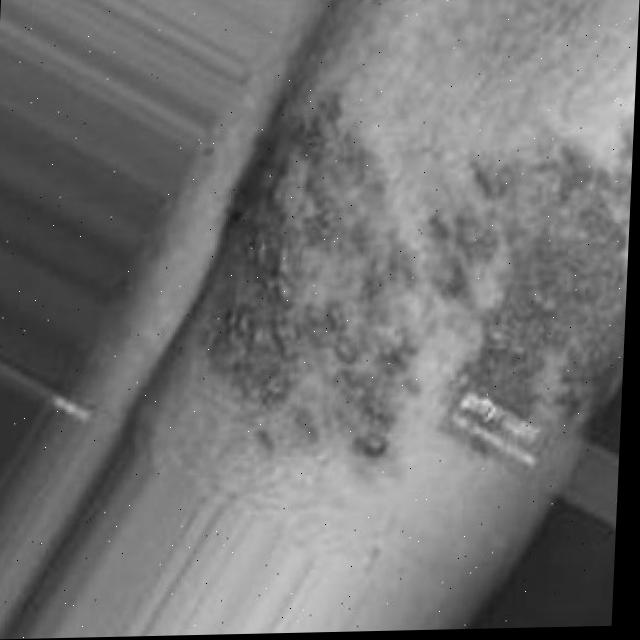Shingles: (179, 97, 432, 478), (449, 155, 632, 412)
